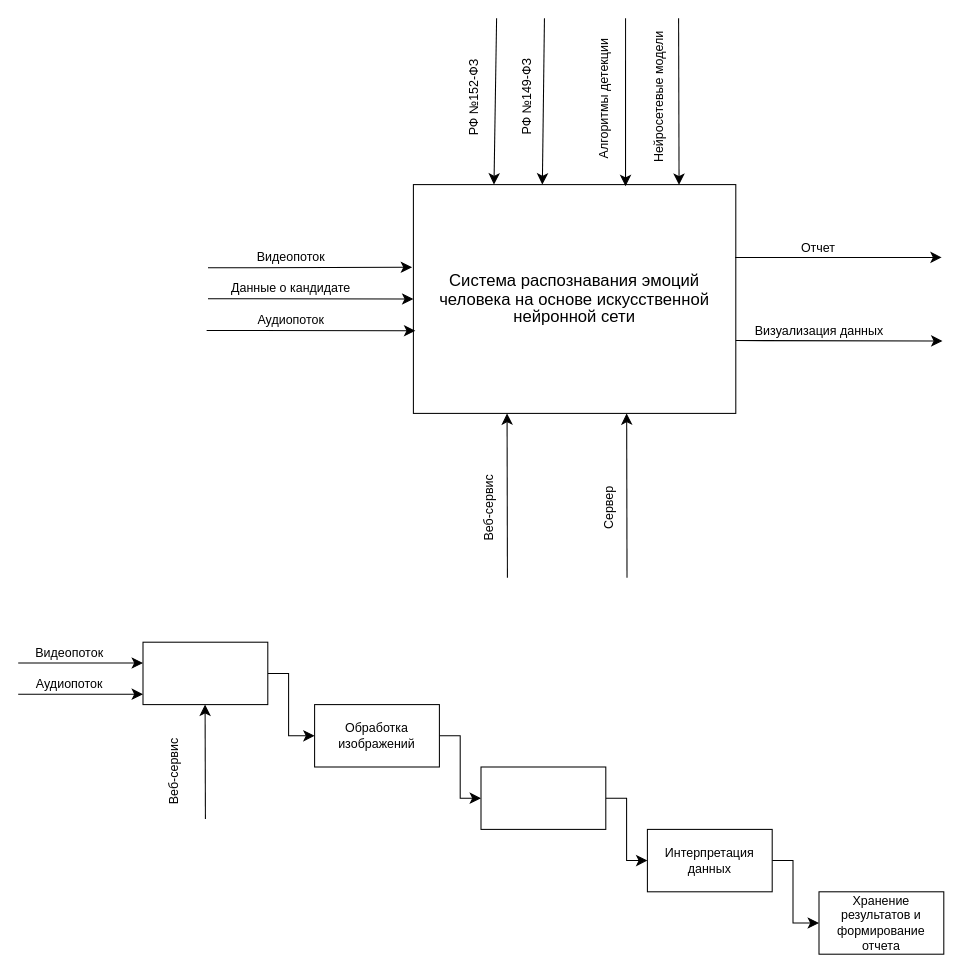
Image size: 962x972. Some labels were removed from this diagram. The centre of each missing label's shape, as x and y in pixels:
"Анализ изображений с помощью модели" belongs at point 543,797.
"Сбор данных" belongs at point 205,673.
